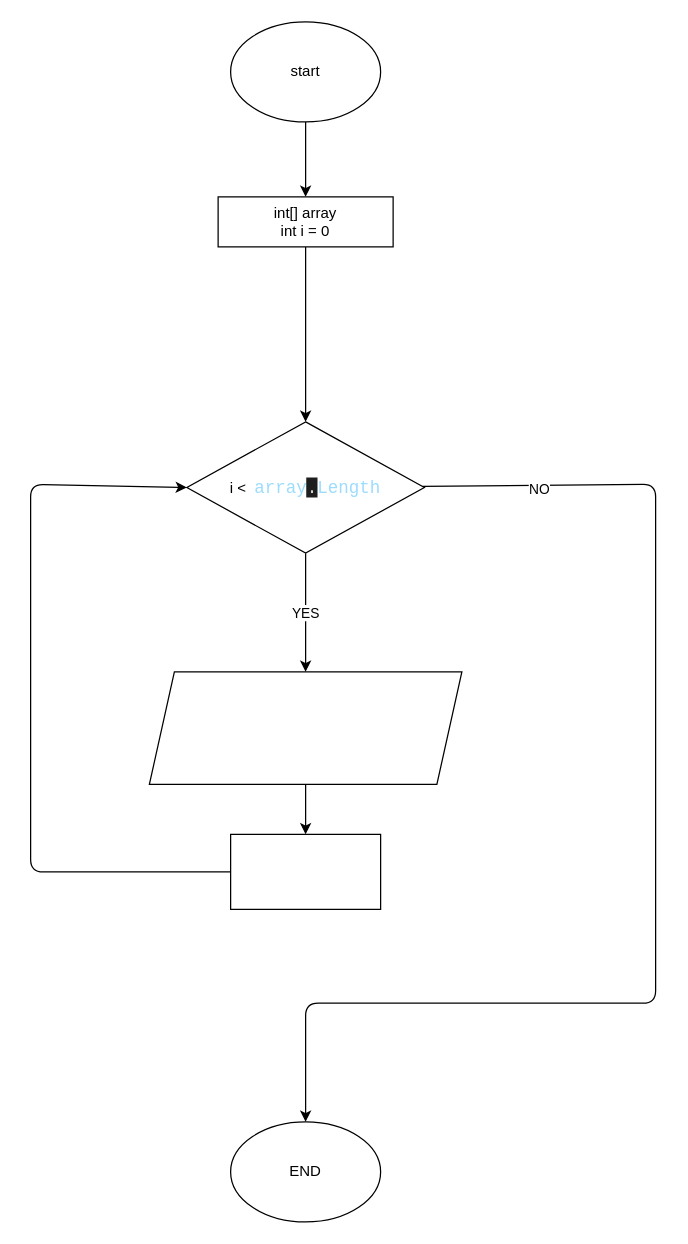
This 688x1244 diagram has some shape labels left out. Here are the shapes that lost their labels. From the top down, the centre of each, then its label:
[305,727]: Console . Write ( arr [ i ] + " " )
[305,871]: i++
